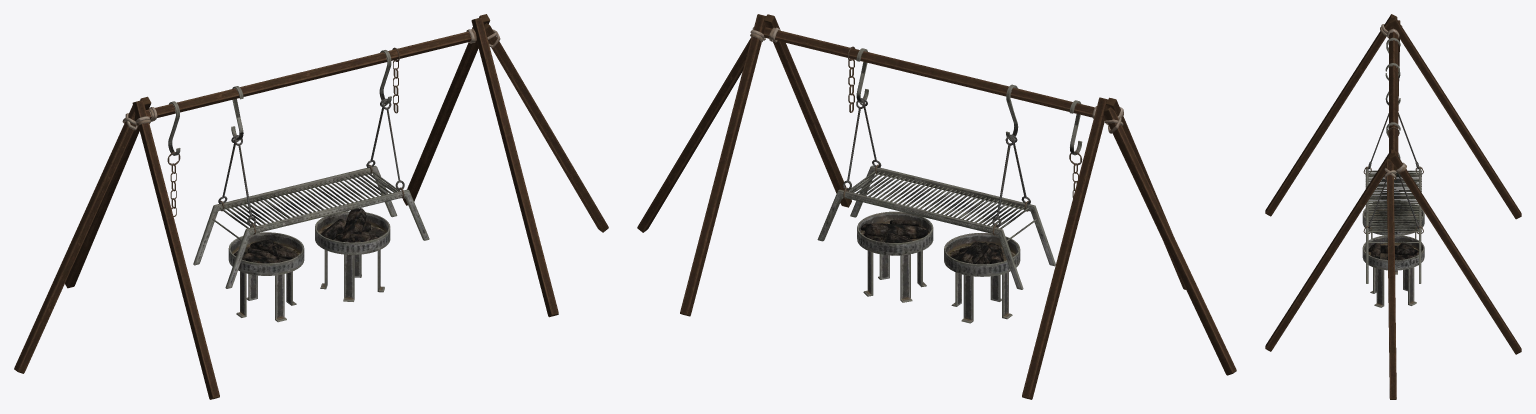
File: BBQPit.glb
3 renders of one model, left to right at view 1: azimuth 30°, elevation 25°; view 2: azimuth 150°, elevation 25°; view 3: azimuth 270°, elevation 25°, orthographic. The views are drawn at different scales.
Visible parts, largest first — view 1: BBQPit, BBQPitMain, Brazier, CharwoodPileA; view 2: BBQPit, BBQPitMain, Brazier, CharwoodPileA; view 3: BBQPit, BBQPitMain, Brazier, CharwoodPileA.
Boxes of the visible parts, x1=… form: BBQPit: x1=14, y1=14, x2=608, y2=399; BBQPitMain: x1=168, y1=50, x2=429, y2=288; Brazier: x1=228, y1=211, x2=390, y2=322; CharwoodPileA: x1=233, y1=208, x2=378, y2=263; BBQPit: x1=637, y1=14, x2=1236, y2=399; BBQPitMain: x1=817, y1=48, x2=1082, y2=289; Brazier: x1=857, y1=211, x2=1020, y2=323; CharwoodPileA: x1=860, y1=220, x2=1003, y2=264; BBQPit: x1=1265, y1=14, x2=1521, y2=399; BBQPitMain: x1=1365, y1=37, x2=1421, y2=283; Brazier: x1=1362, y1=200, x2=1424, y2=307; CharwoodPileA: x1=1368, y1=207, x2=1417, y2=260.
Bounding box in the file's own units: 8.43 × 3.33 × 3.87.
5 materials, 5 textured.
